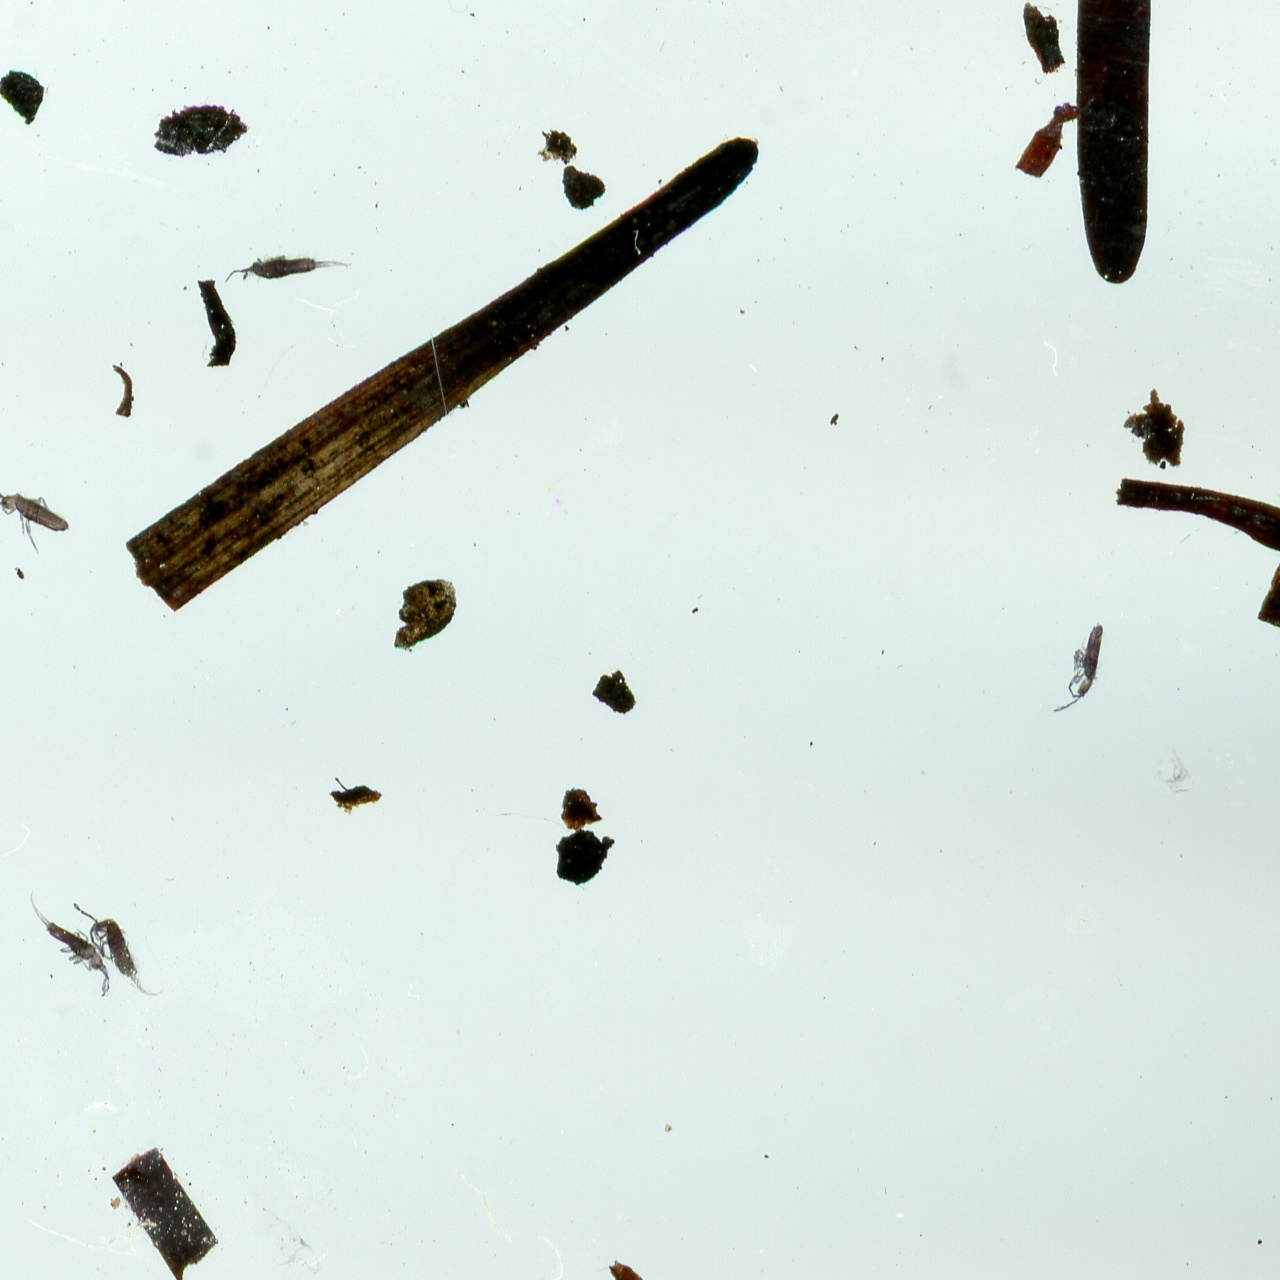arthropod: (9, 865, 127, 1016), (66, 880, 175, 1020), (1043, 612, 1110, 720), (0, 472, 80, 561), (217, 246, 361, 292)
